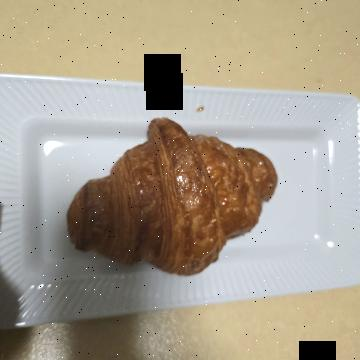croissant: (111, 79, 292, 307)
